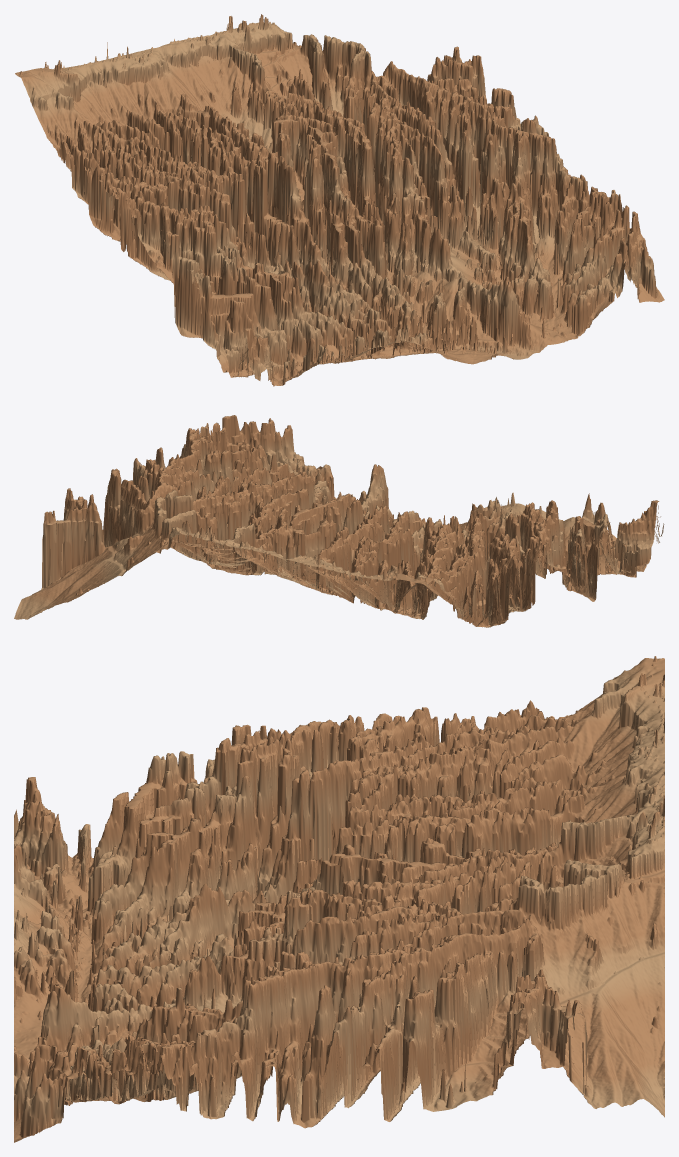
Rendered from survey-rim.glb.
3 renders of one model, top to bottom at view 1: azimuth 30°, elevation 25°; view 2: azimuth 150°, elevation 25°; view 3: azimuth 270°, elevation 25°, orthographic. The views are drawn at different scales.
Size of the model in its own units: 320 by 138 by 320.
